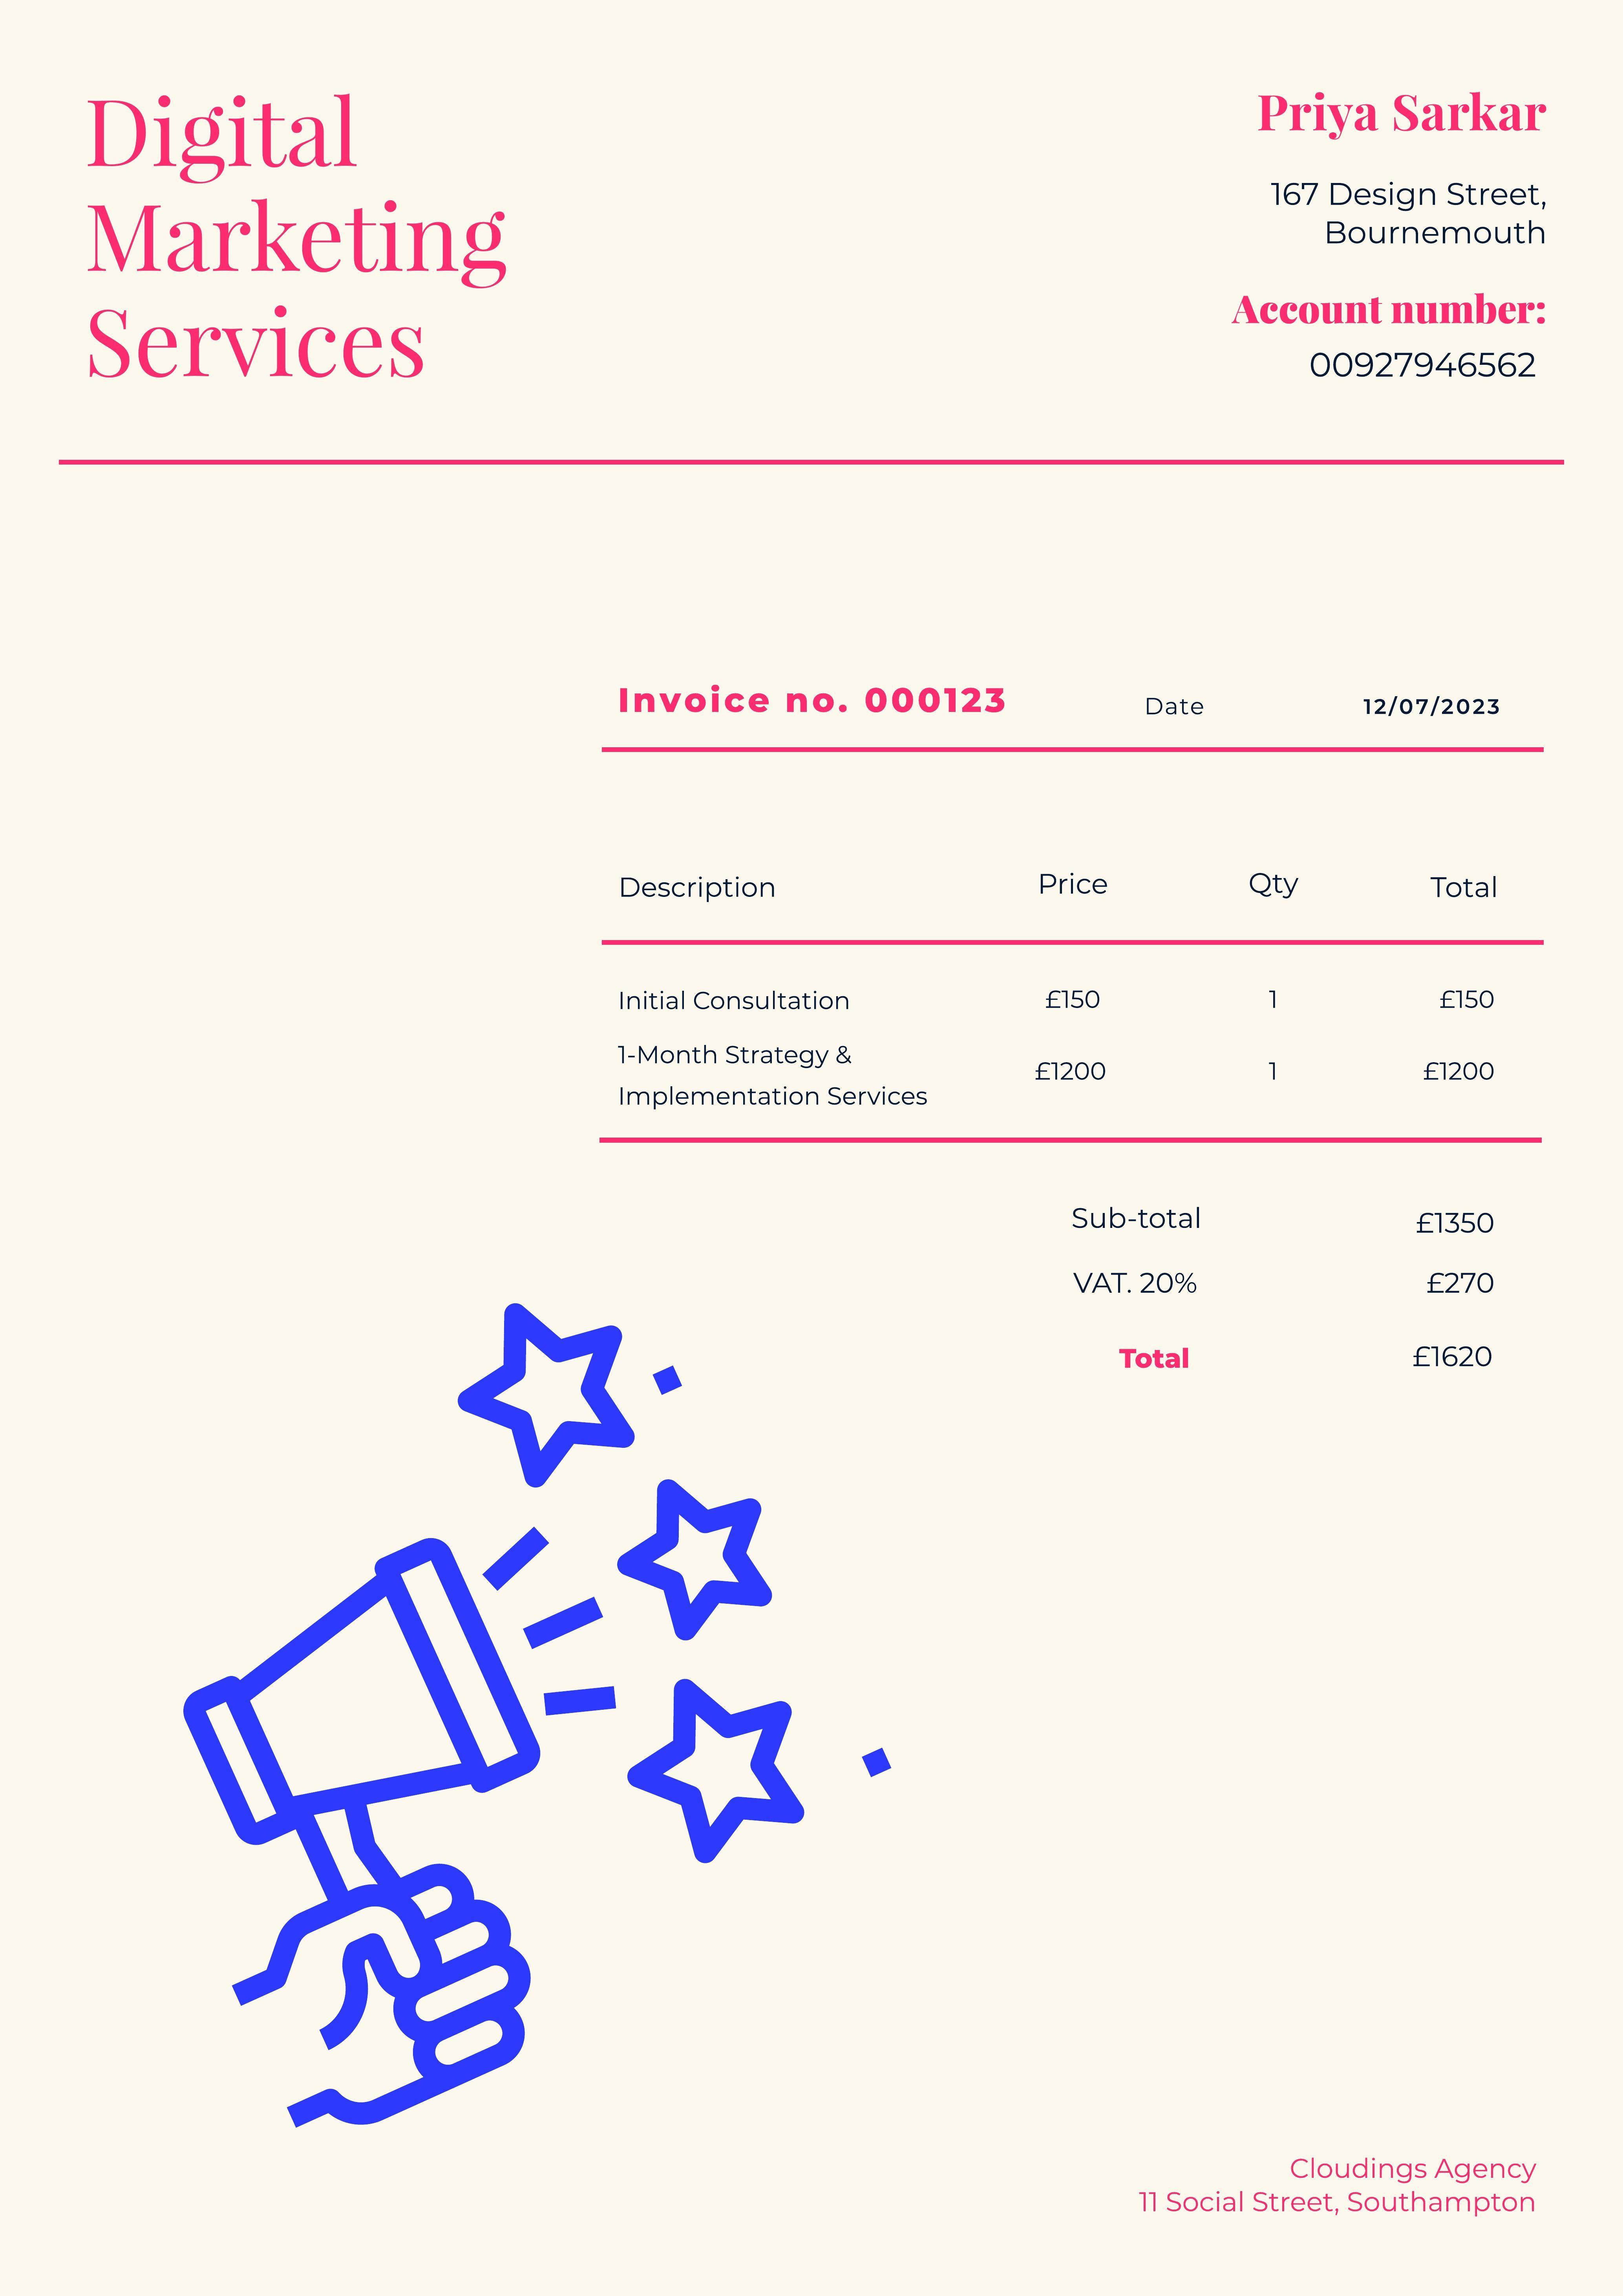ROI: (592, 854, 1556, 1110), (1049, 1191, 1539, 1392), (570, 649, 1559, 737), (1241, 73, 1569, 269), (1225, 289, 1565, 397)
